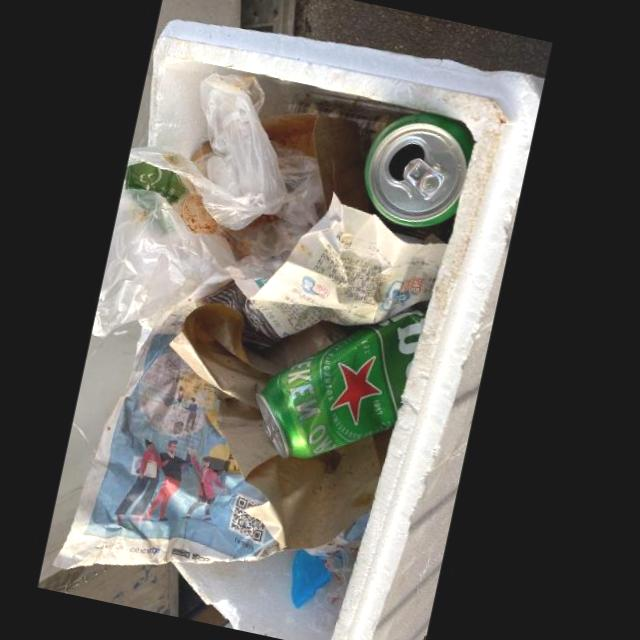giay: (50, 190, 448, 569)
nhom: (254, 306, 427, 459), (364, 111, 473, 226)
tui_ni_long: (91, 72, 326, 339)
